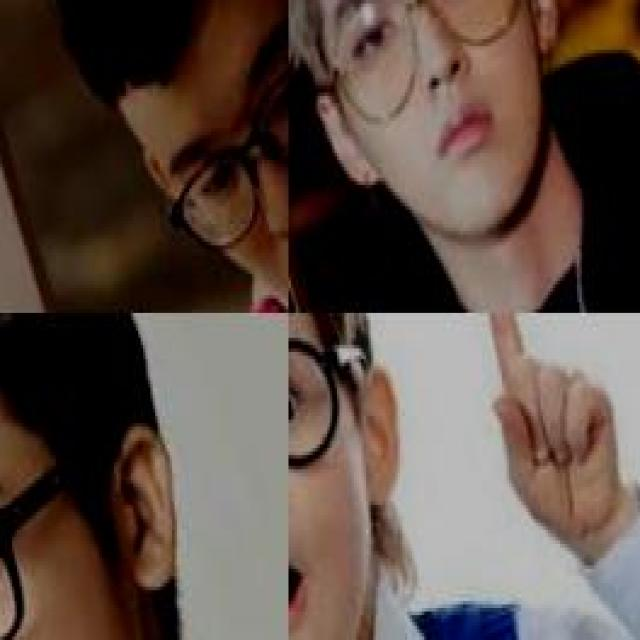Glasses: (107, 0, 286, 281), (295, 0, 550, 149), (288, 313, 398, 558), (0, 430, 124, 640)
